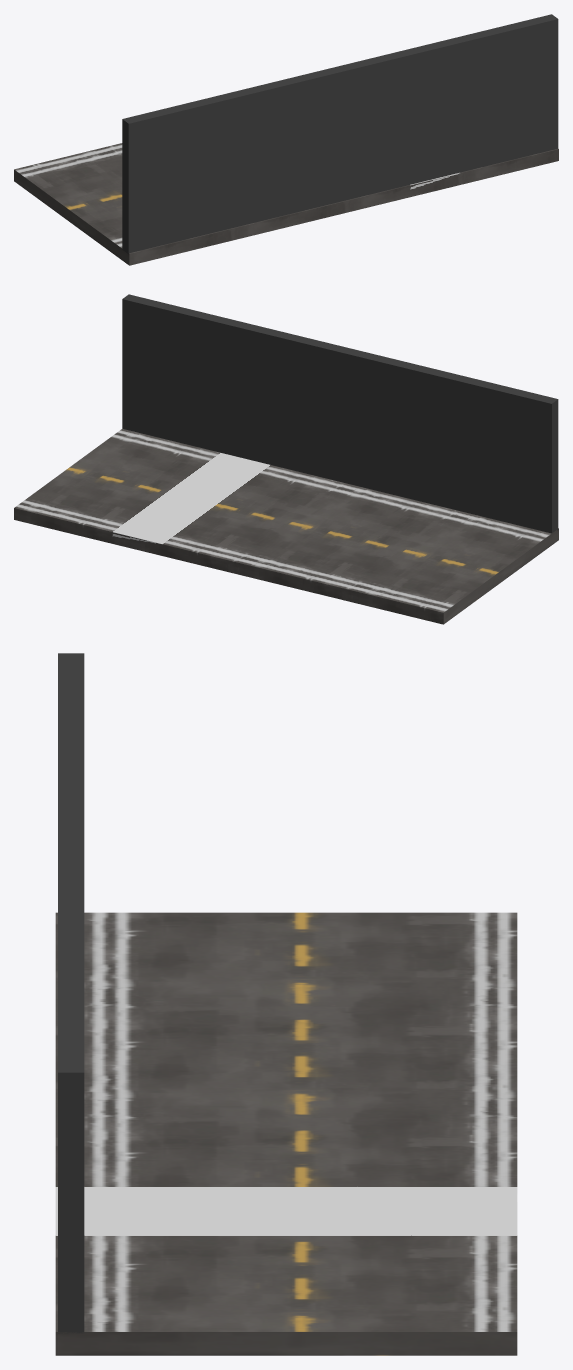
Rendered from Platform 3.fbx.
The picture shows the model from 3 angles, top to bottom: view 1: azimuth 30°, elevation 25°; view 2: azimuth 150°, elevation 25°; view 3: azimuth 270°, elevation 25°; orthographic projection. The views are drawn at different scales.
Visible parts, largest first — view 1: Cube.001, Platform 3; view 2: Cube.001, Platform 3; view 3: Platform 3, Cube.001.
Boxes of the visible parts, <box> form: Cube.001: <box>122,14,558,253</box>; Platform 3: <box>14,143,558,265</box>; Cube.001: <box>122,294,558,533</box>; Platform 3: <box>14,429,558,624</box>; Platform 3: <box>55,912,517,1355</box>; Cube.001: <box>58,653,84,1333</box>.
Bounding box in the file's own units: 7590 × 2389 × 3534.
